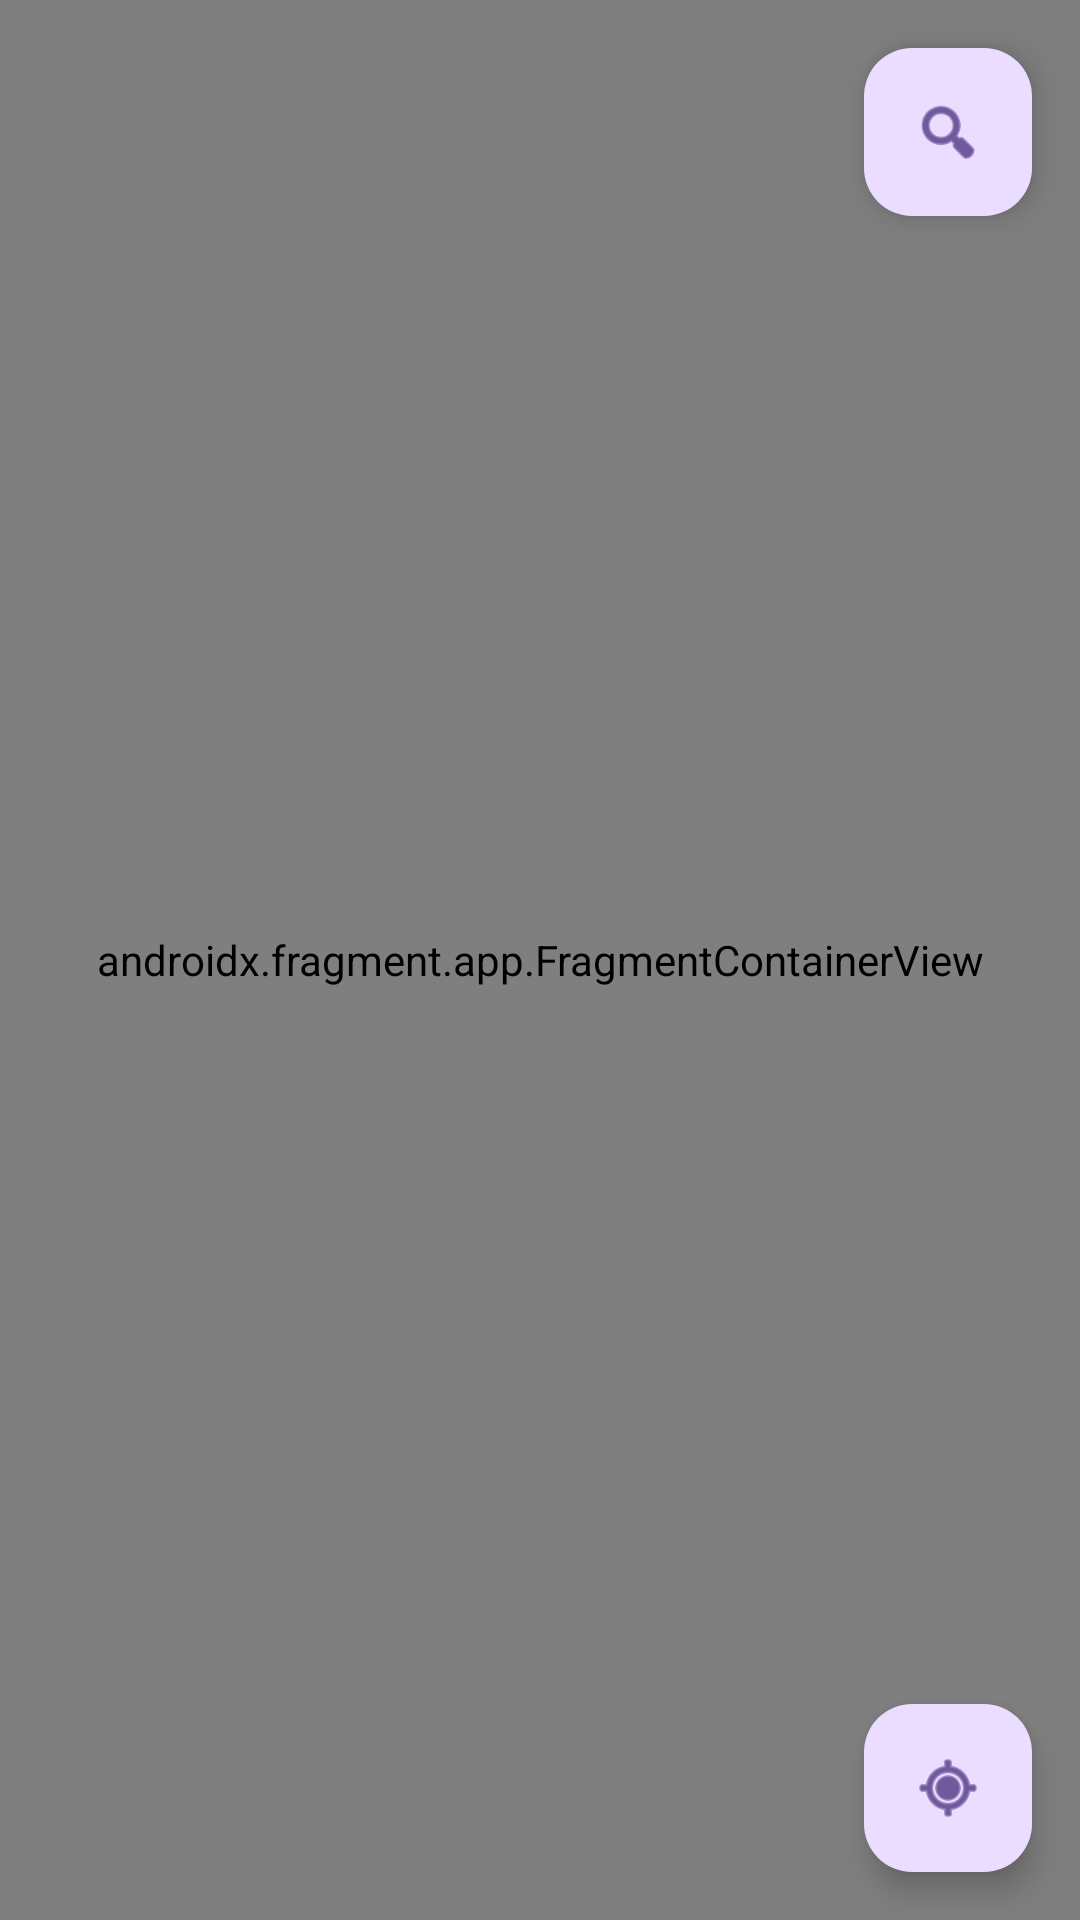

Where to tap for icons on this 1080 × 1920 app screen, as point (x, y):
Buscar parqueos: point (948, 132)
Centrar mapa: point (948, 1788)
